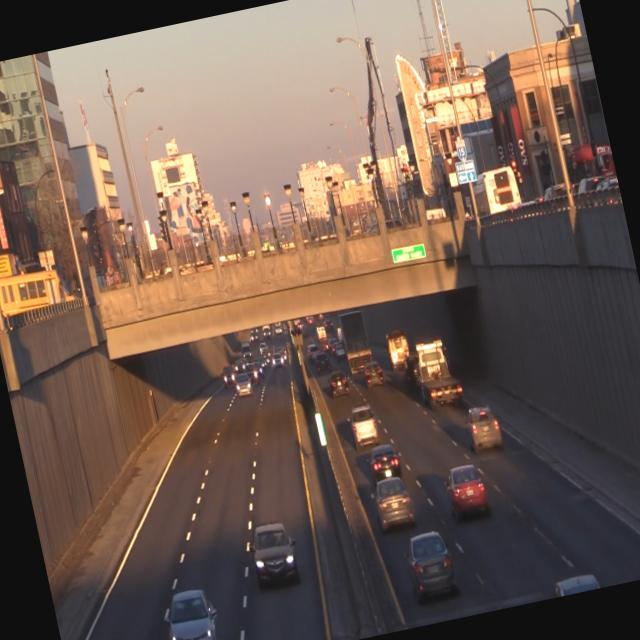Vehicle: (403, 529, 461, 602), (248, 517, 304, 589), (414, 336, 466, 408), (159, 585, 227, 640), (442, 459, 492, 522), (371, 474, 418, 530), (463, 400, 508, 457), (365, 440, 405, 484), (348, 406, 381, 446), (360, 357, 386, 389), (326, 368, 353, 398)
